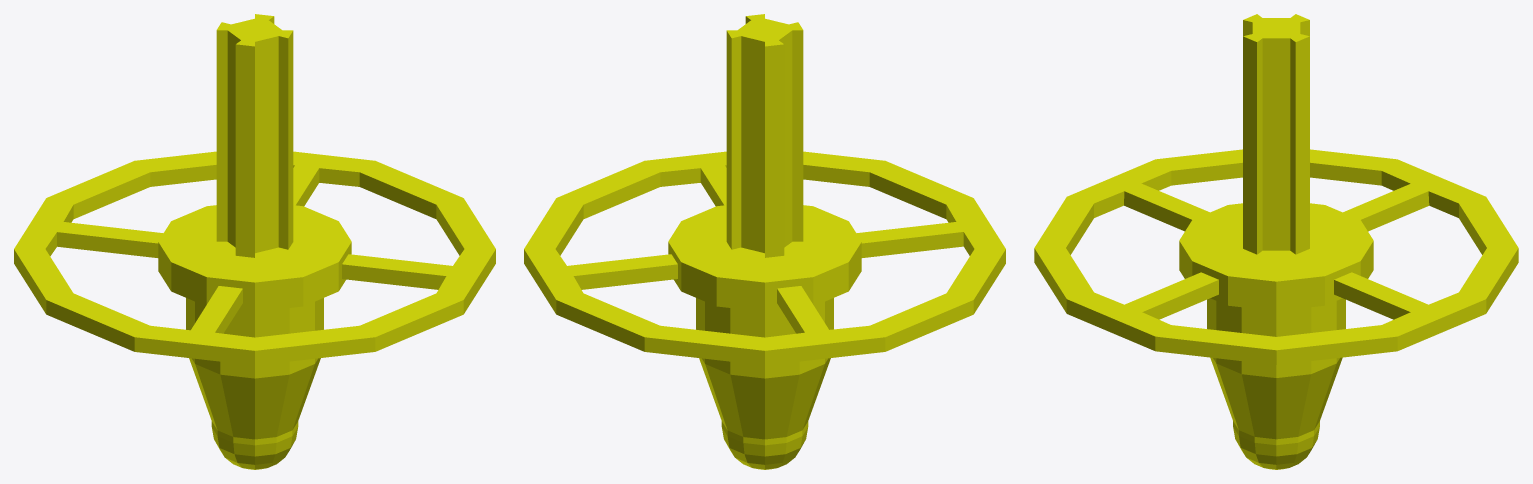
The model's file is 5Bit.fbx.
The picture shows the model from 3 angles, left to right: view 1: azimuth 30°, elevation 25°; view 2: azimuth 150°, elevation 25°; view 3: azimuth 270°, elevation 25°; orthographic projection.
Parts seen in each view (by area): view 1: 5Bit; view 2: 5Bit; view 3: 5Bit.
Boxes of the visible parts, x1,y1,x2,y2 form: 5Bit: (14,14,495,469); 5Bit: (524,14,1005,469); 5Bit: (1034,14,1518,469).
Size of the model in its own units: 223 by 223 by 223.
